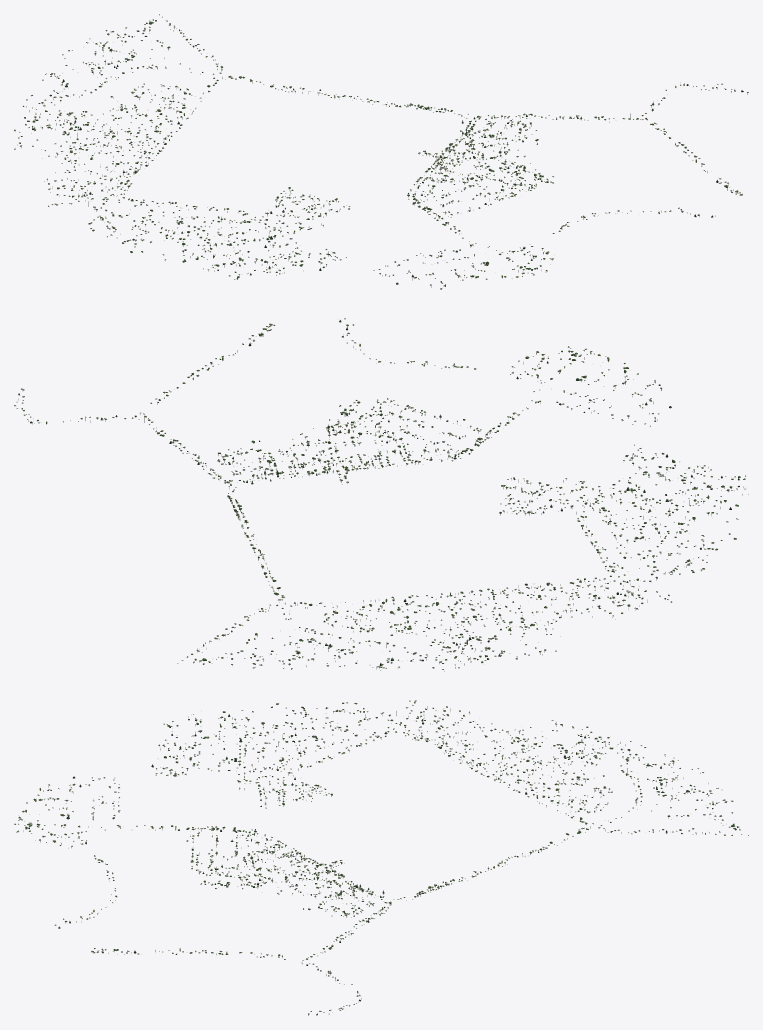
The model's file is summit_backdrop_part2.glb.
3 renders of one model, top to bottom at view 1: azimuth 30°, elevation 25°; view 2: azimuth 150°, elevation 25°; view 3: azimuth 270°, elevation 25°, orthographic. The views are drawn at different scales.
Visible parts, largest first — view 1: bg_trees_joined; view 2: bg_trees_joined; view 3: bg_trees_joined.
Part boxes in pixels (x1,y1,x2,y2): bg_trees_joined: (14, 14, 748, 289); bg_trees_joined: (14, 318, 748, 671); bg_trees_joined: (14, 700, 748, 1015).
Bounding box in the file's own units: 2964 × 104 × 2968.
1 material, 1 textured.
